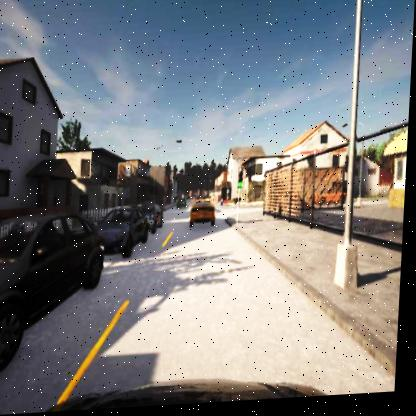vehicle: (0, 210, 111, 376), (97, 208, 153, 261), (191, 203, 220, 229), (141, 204, 164, 235)
